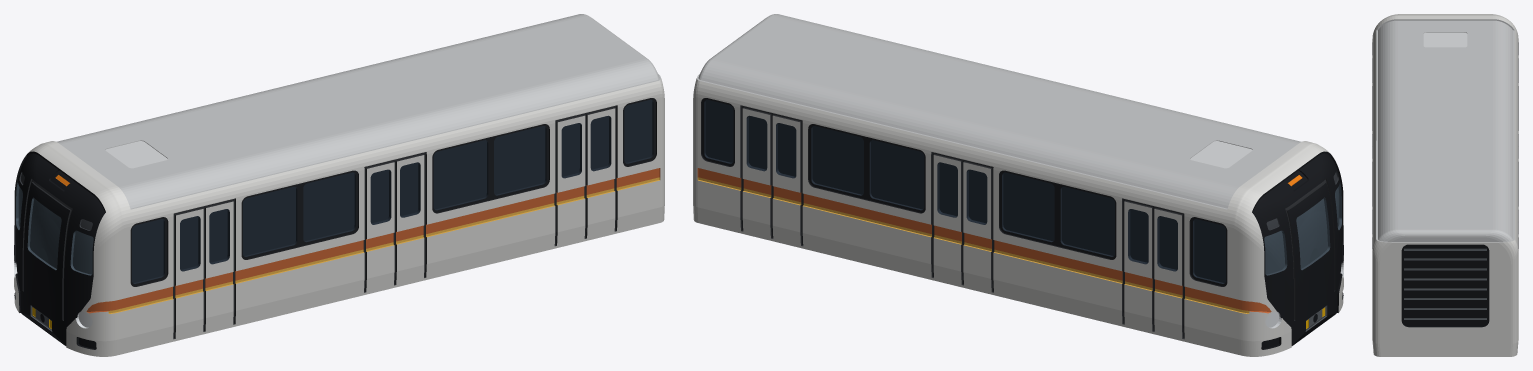
The model's file is sg-tel.glb.
The picture shows the model from 3 angles, left to right: view 1: azimuth 30°, elevation 25°; view 2: azimuth 150°, elevation 25°; view 3: azimuth 270°, elevation 25°; orthographic projection. The views are drawn at different scales.
Parts seen in each view (by area): view 1: tel_sg-tel; view 2: tel_sg-tel; view 3: tel_sg-tel.
Boxes of the visible parts, x1,y1,x2,y2 form: tel_sg-tel: (14, 14, 664, 356); tel_sg-tel: (693, 14, 1343, 356); tel_sg-tel: (1372, 14, 1518, 356).
Size of the model in its own units: 150 by 37.99 by 40.
